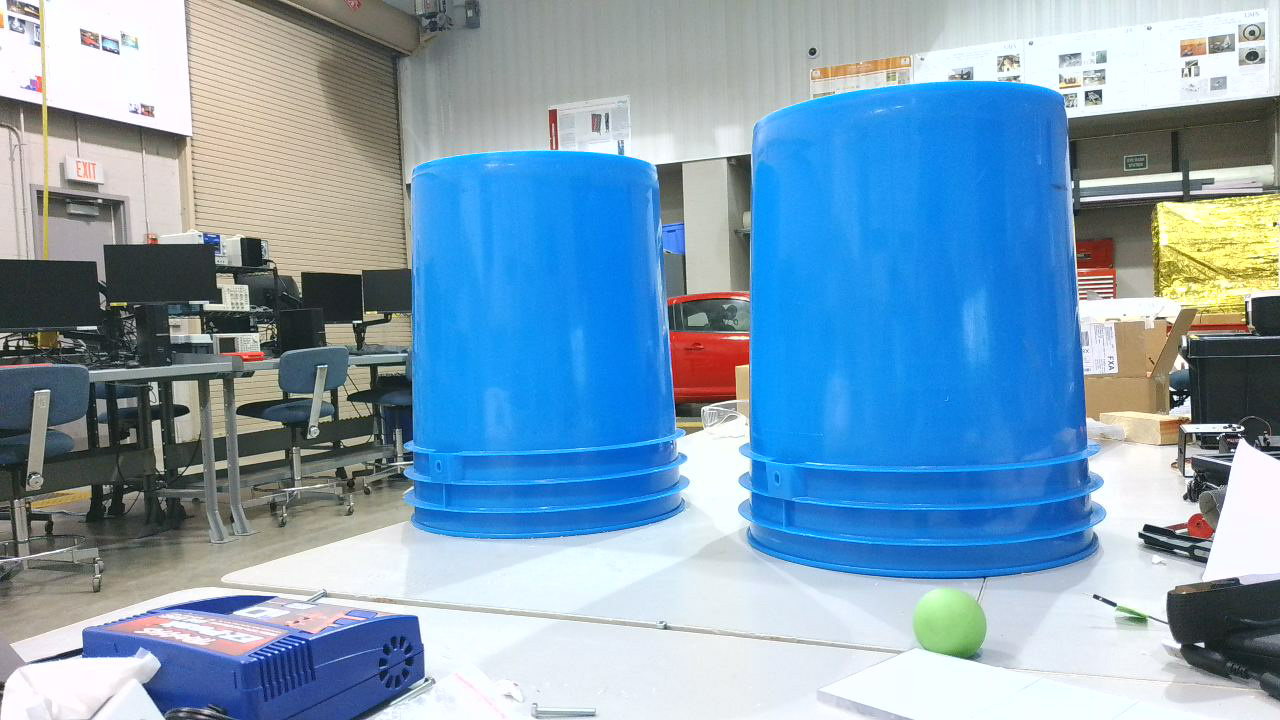blue_bucket: (739, 83, 1114, 589), (403, 152, 700, 549)
